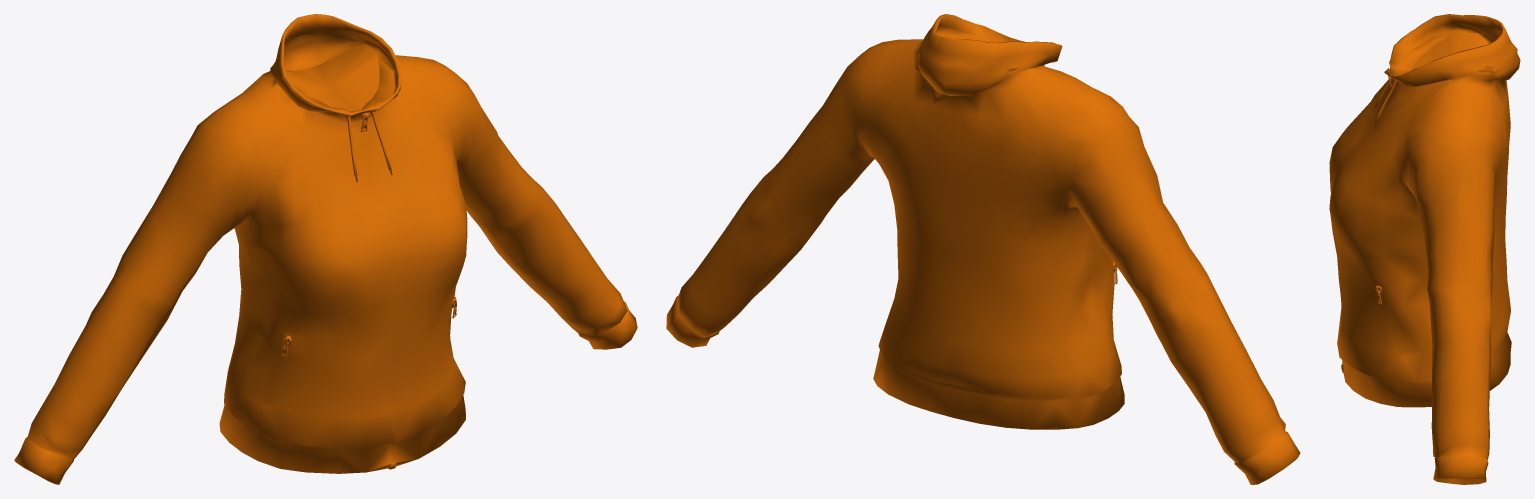
Rendered from jaquetafem4.glb.
The picture shows the model from 3 angles, left to right: view 1: azimuth 30°, elevation 25°; view 2: azimuth 150°, elevation 25°; view 3: azimuth 270°, elevation 25°; orthographic projection. The views are drawn at different scales.
Parts seen in each view (by area): view 1: hash_0E4F123C.model; view 2: hash_0E4F123C.model; view 3: hash_0E4F123C.model.
Part boxes in pixels (x1,y1,x2,y2): hash_0E4F123C.model: (14,14,637,484); hash_0E4F123C.model: (666,14,1300,484); hash_0E4F123C.model: (1329,14,1520,484).
Size of the model in its own units: 1.05 by 0.6353 by 0.3174.
